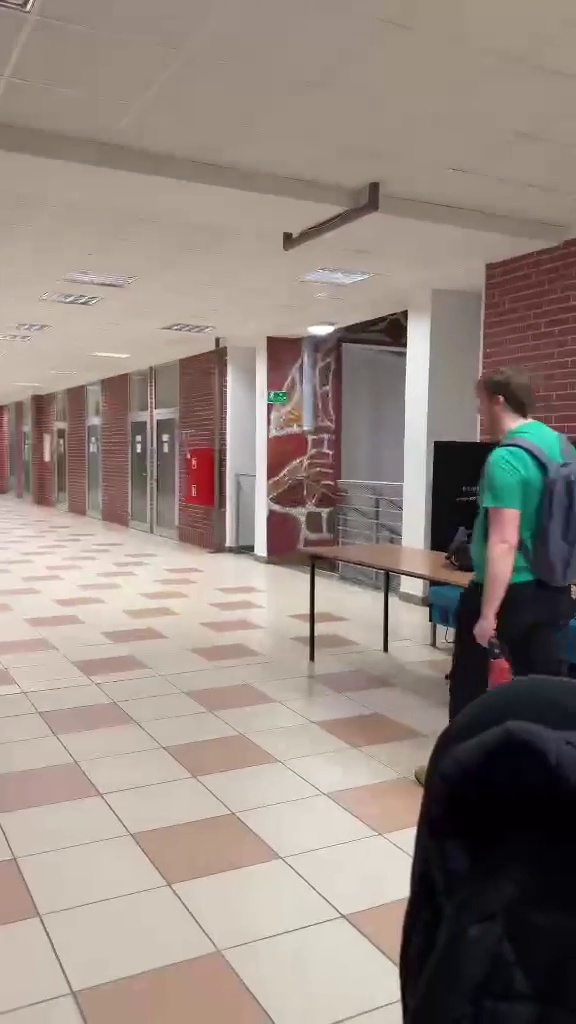no vest: (438, 370, 576, 709)
